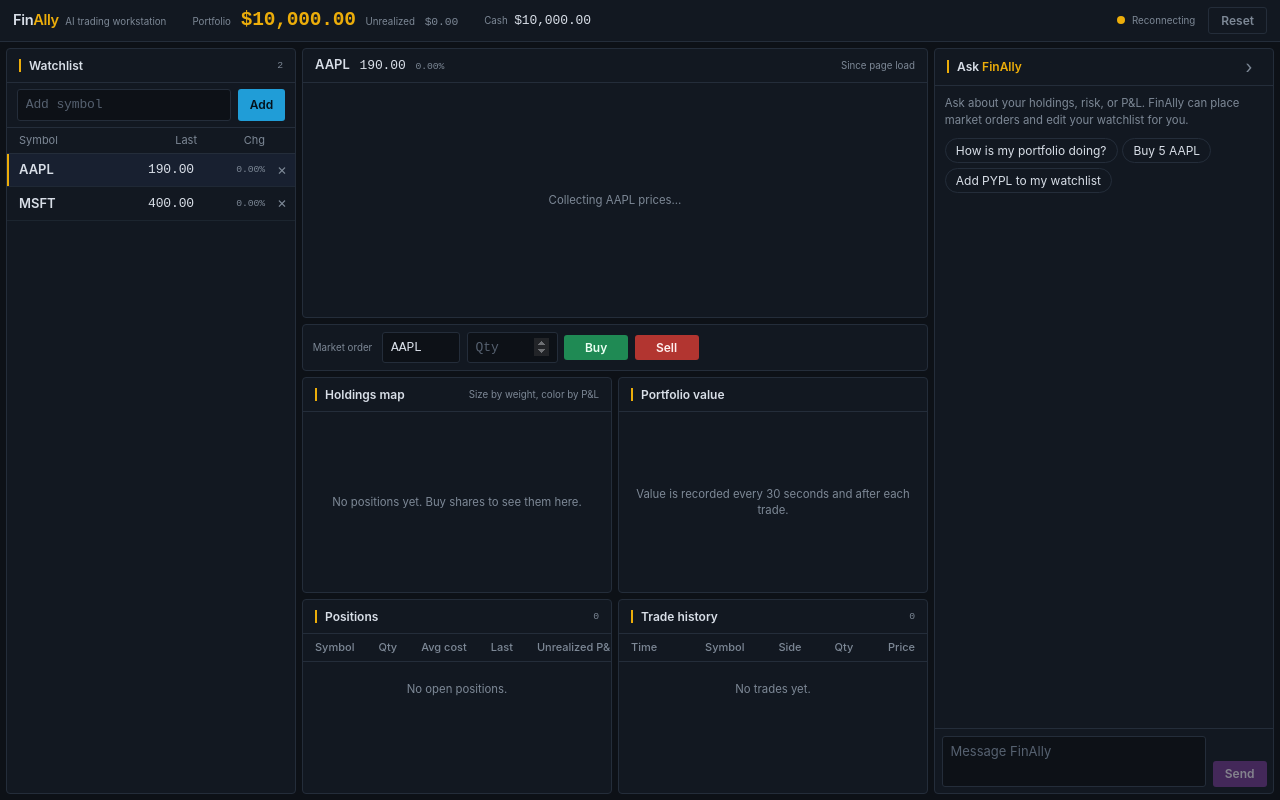
Test: Terminal › refreshes the watchlist after chat actions
Check: the list item with test id "watchlist-row-AAPL" is shown, box [7,154,295,187]
Type "add PYPL" into the text box with test id "chat-input" at x=1074, y=761, box [942,736,1206,786]
Then press Enter
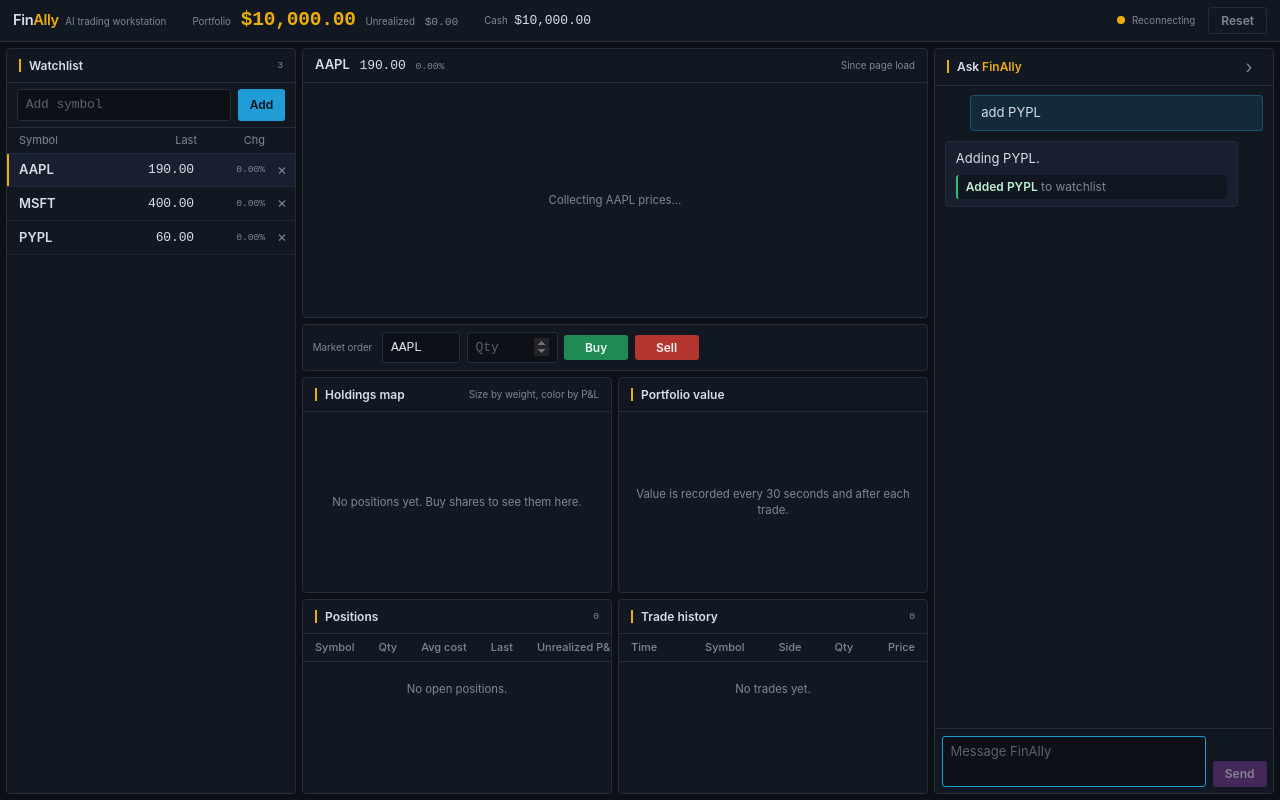
Check: the list item with test id "watchlist-row-PYPL" is shown, box [7,221,295,255]
